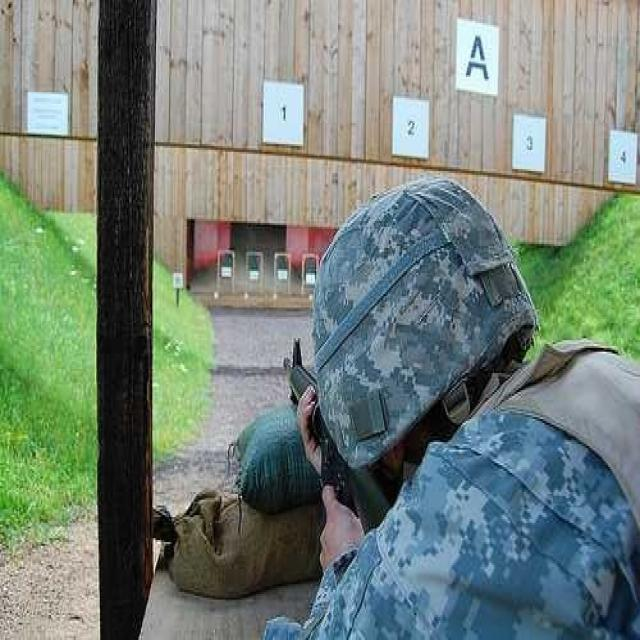heavyweapon: (263, 338, 375, 586)
